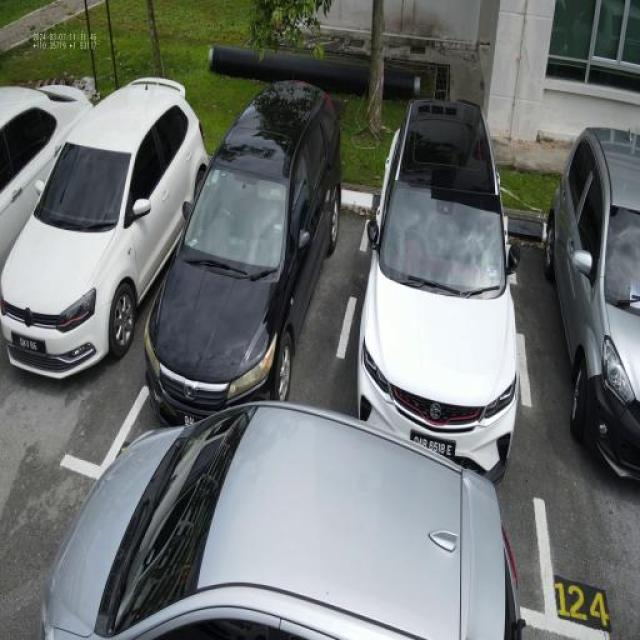Legalparking: (2, 0, 640, 525)
illegalparking: (11, 370, 640, 640)
